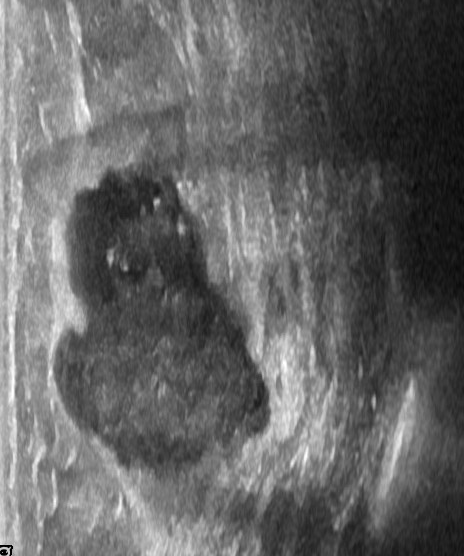Benign: (53, 210, 267, 460)
